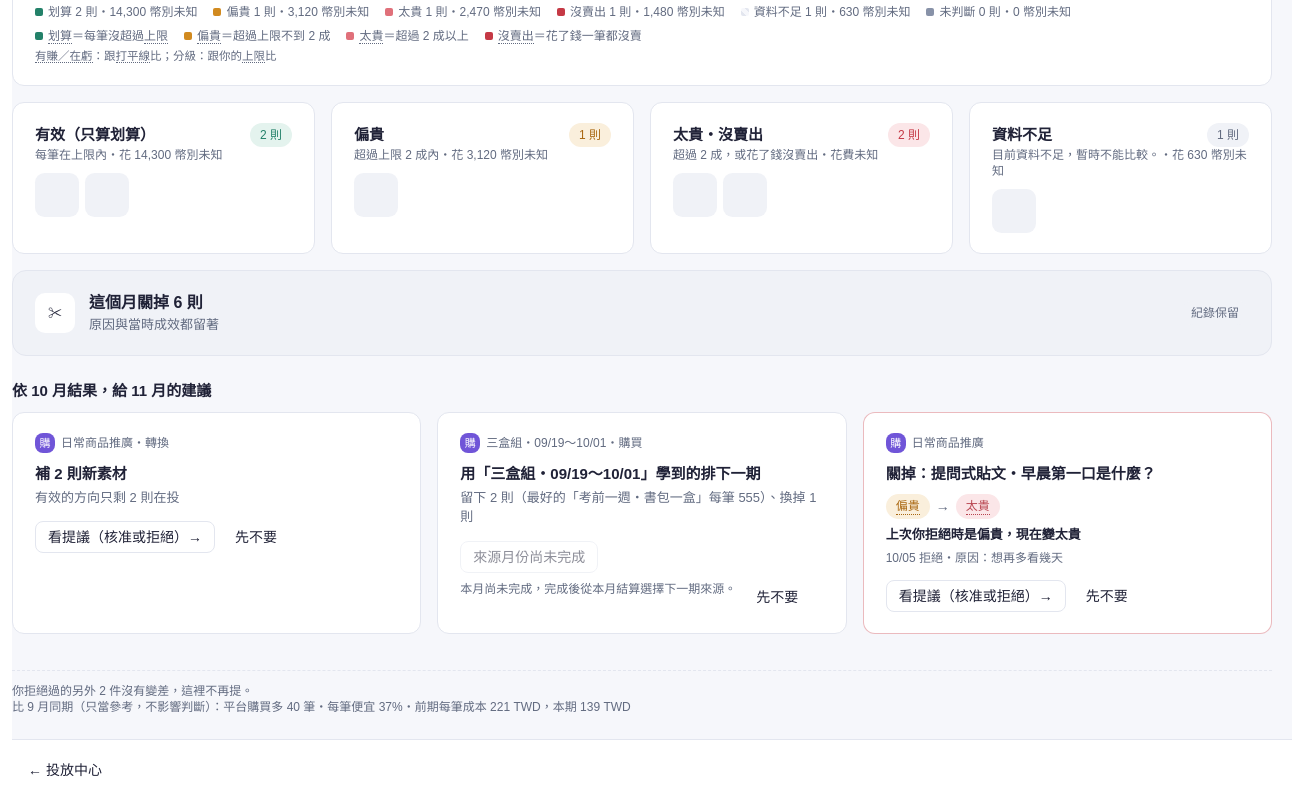
Test: MonthReviewPage — current month › next_plan in an incomplete source month cannot enter next-period planning; dismissal stays available
(page scrolled)
Expected: the text "留下 2 則（最好的「考前一週・書包一盒」每筆 555）、換掉 1 則" is shown, [460,488,824,527]
Expected: the button "來源月份尚未完成" is disabled, [460,541,598,573]
Click the button "先不要" next to "本月尚未完成，完成後從本月結算選擇下一期來源。" at coordinates (777, 597), box [744,581,810,613]
(page scrolled)
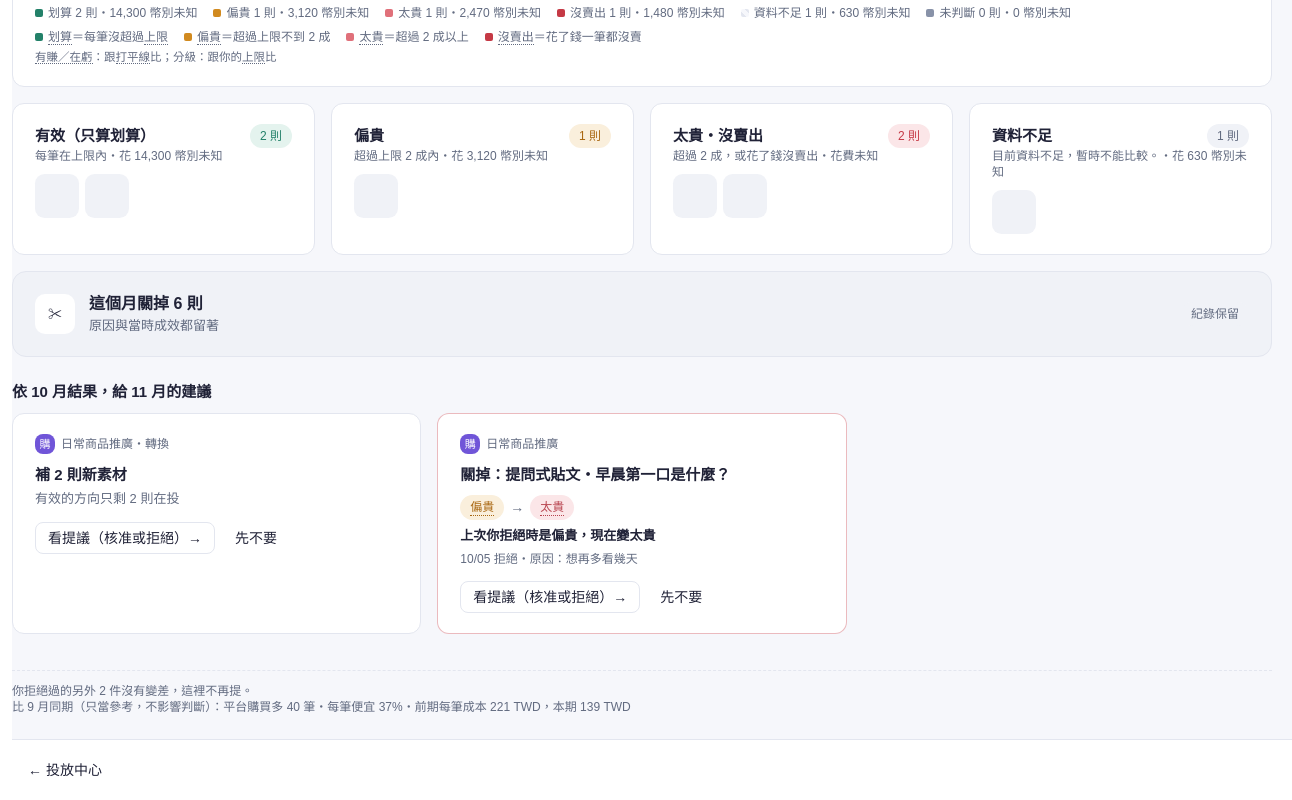
Expected: the text "用「三盒組・09/19～10/01」學到的排下一期" is gone
